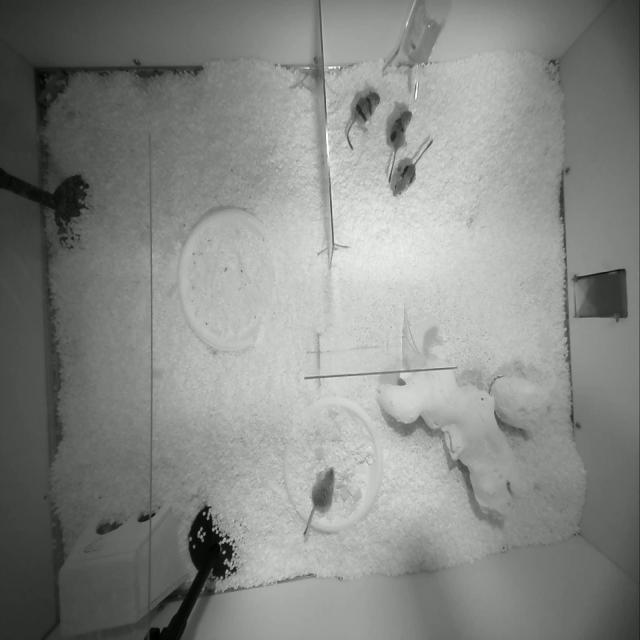pup_fluffy: (304, 467, 334, 535)
pup_h_stripe: (347, 92, 380, 150)
pup_spotted: (388, 110, 411, 182)
pup_v_stripe: (393, 139, 433, 196)
